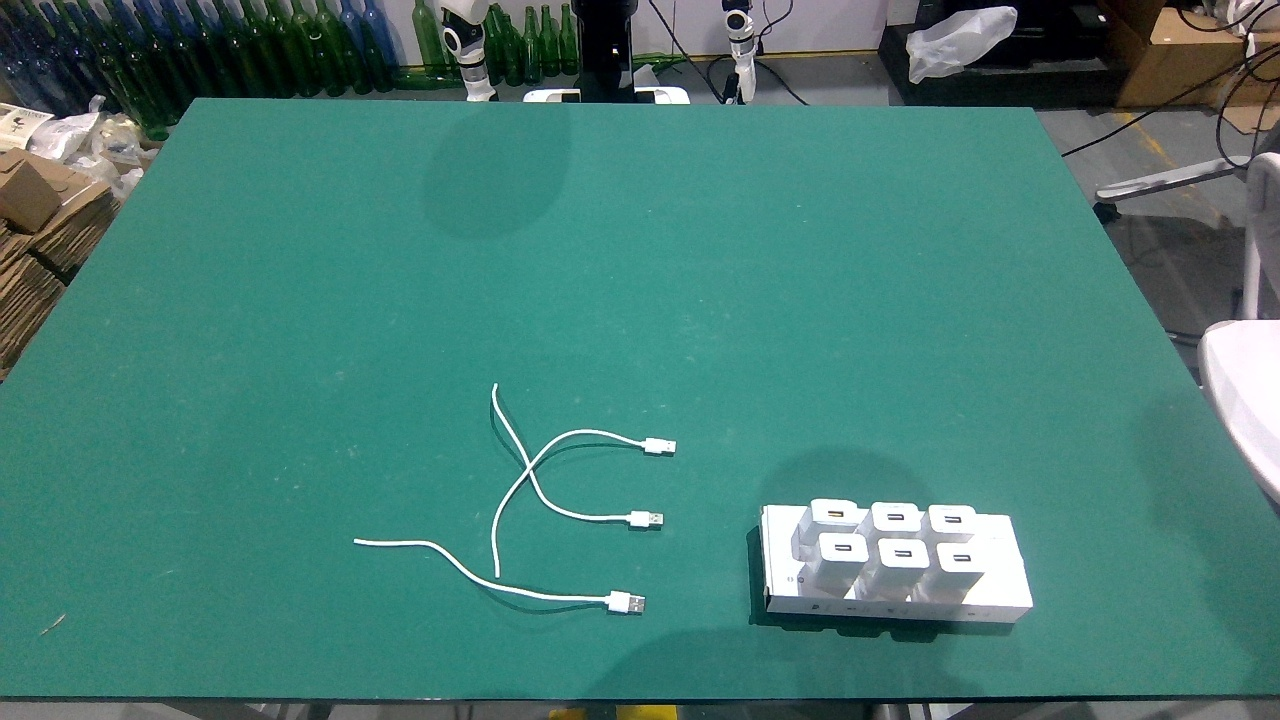usb_a_plug: (591, 588, 647, 614), (630, 437, 678, 455), (614, 510, 664, 527)
